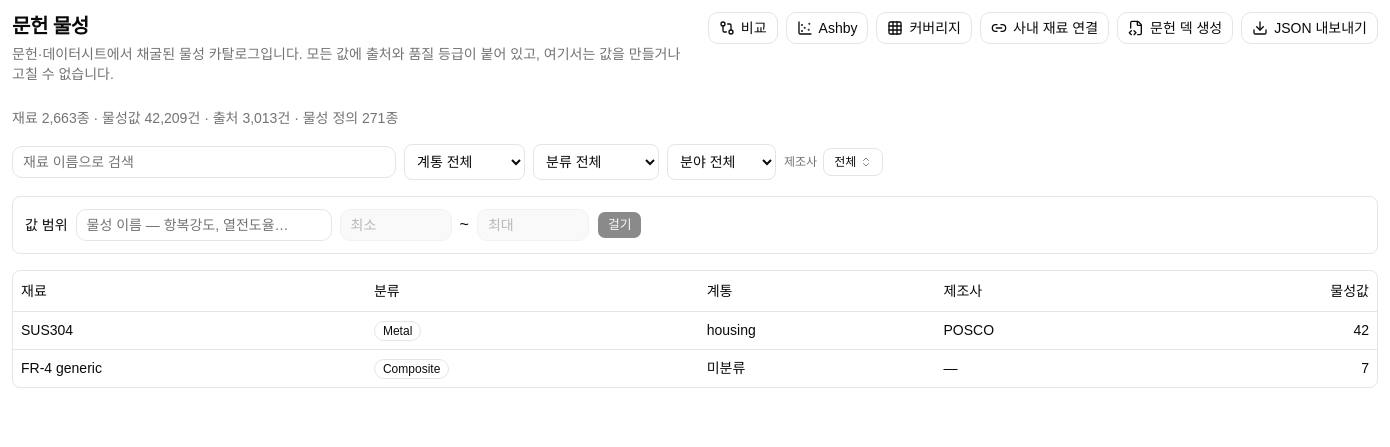
거르는 축 — 분야 · 제조사 · 값 범위 (2026-10-03) › 값 범위는 화면 단위(MPa)로 받아 SI 로 보내고, 걸린 값을 그 단위의 열로 세운다
The width and height of the screenshot is (1390, 447).
Expected: the link "SUS304" is shown, [21,322,73,338]
Type "항복" into the field named "값으로 거를 물성" at (204, 225), box [76,209,332,241]
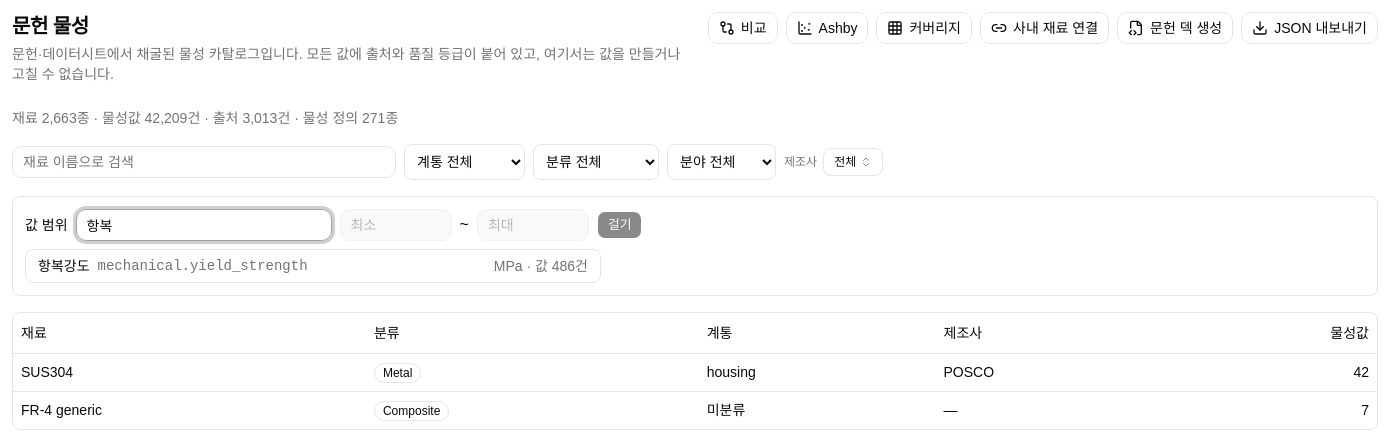
Click the button "항복강도 mechanical.yield_strength MPa · 값 486건" at (64, 266), box [26,250,600,282]
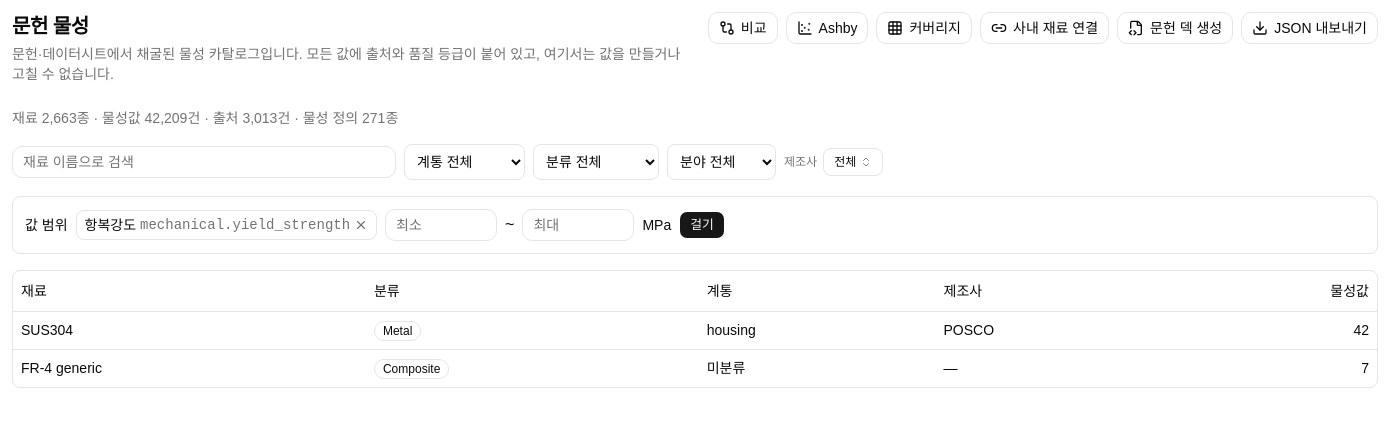
Type "200" into the field named "최솟값" at (441, 225), box [385,209,497,241]
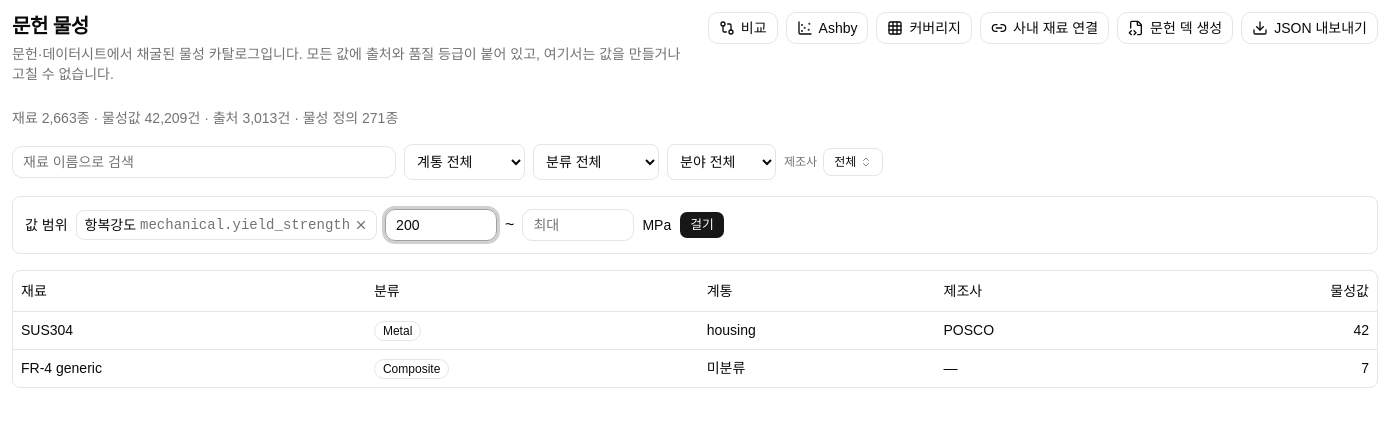
Type "300" into the field named "최댓값" at (578, 225), box [522,209,634,241]
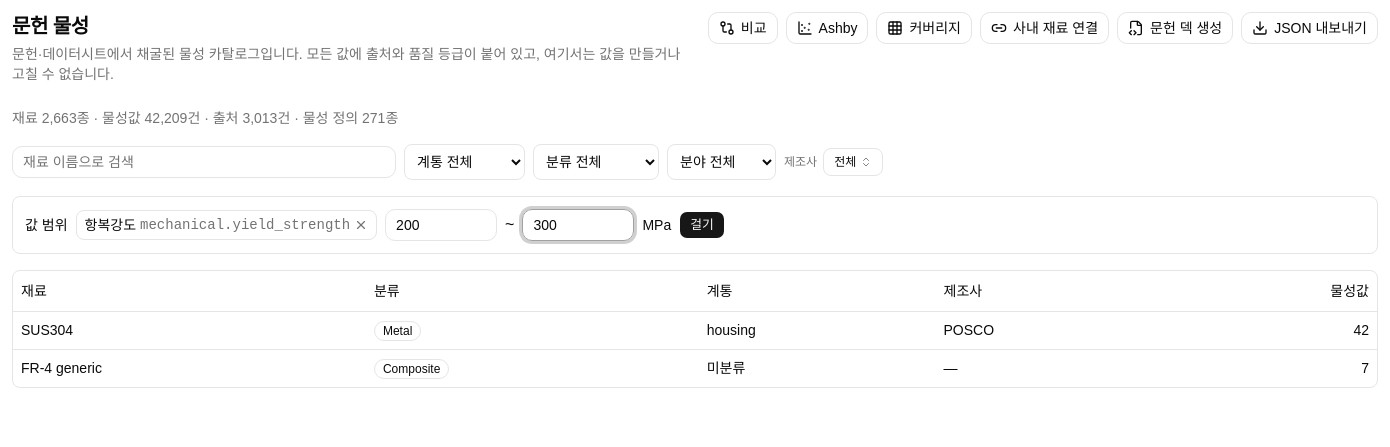
Click the button "걸기" at (702, 225), box [679,211,725,239]
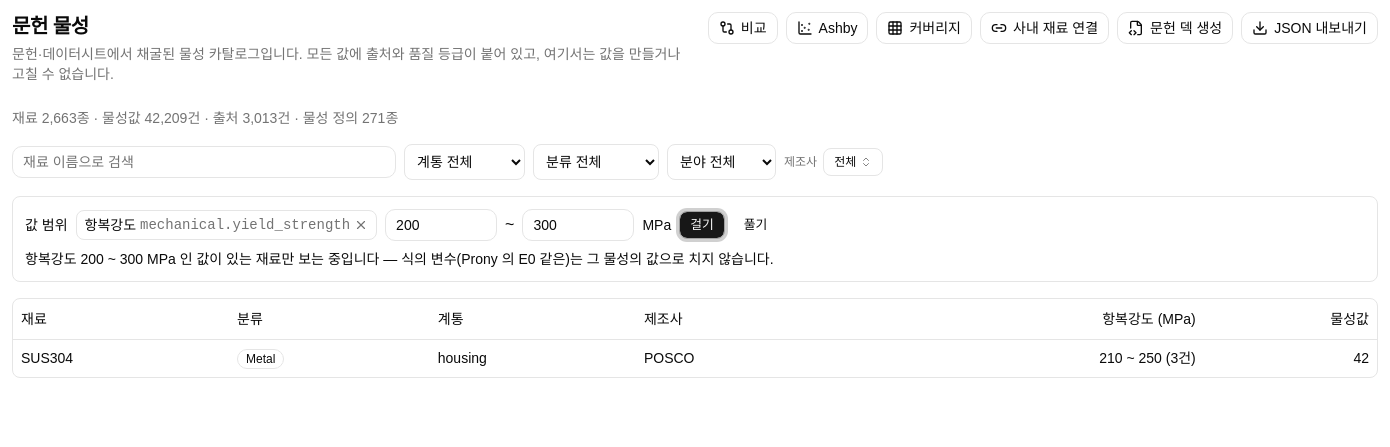
Result: the text "mechanical.yield_strength" is shown at [140,215,350,235]
Result: the column heading "항복강도 (MPa)" is shown at [847,299,1204,339]
Result: the text "210 ~ 250 (3건)" is shown at [847,339,1204,376]
Click the button "풀기" at (756, 225), box [733,211,778,239]
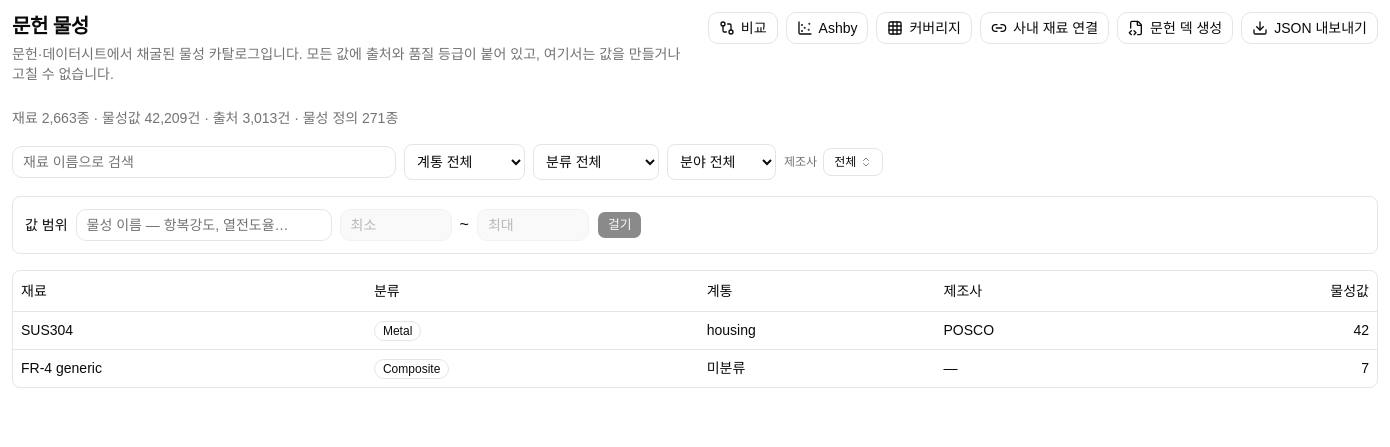
Result: the column heading "항복강도 (MPa)" is gone
